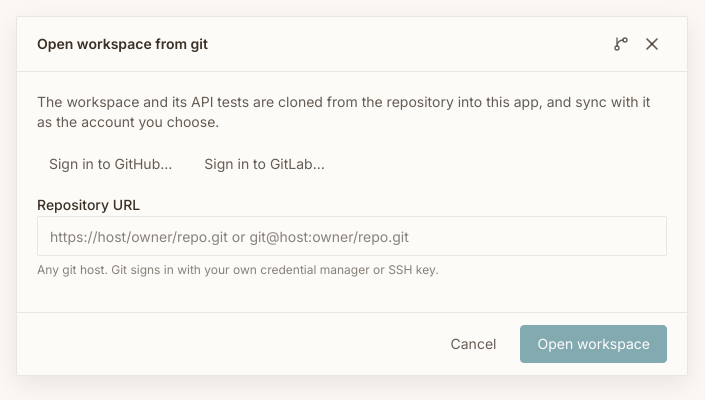
OpenWorkspaceFromGitModal › shows every warning, even two with the same text, each under a key of its own
Type "https://git.example.com/acme/tests.git" into the field named "Repository URL". click: coordinates (352, 236)
box: 37,216 -> 667,256
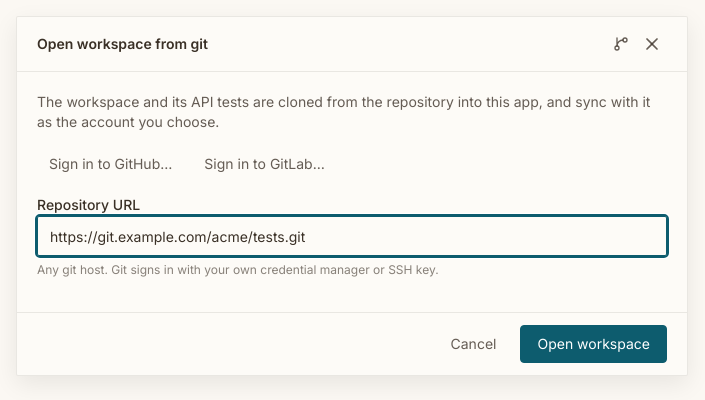
Click the button "Open workspace". click: coordinates (594, 344)
box: 520,325 -> 667,363
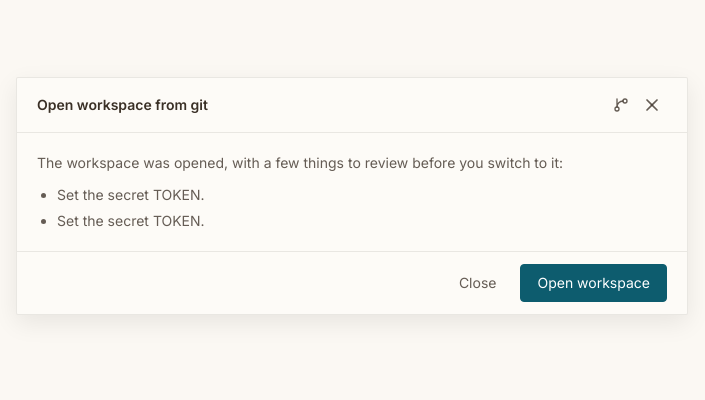
Now the number of list items "Set the secret TOKEN." is 2, box 57,186 -> 205,203; 57,212 -> 205,229
